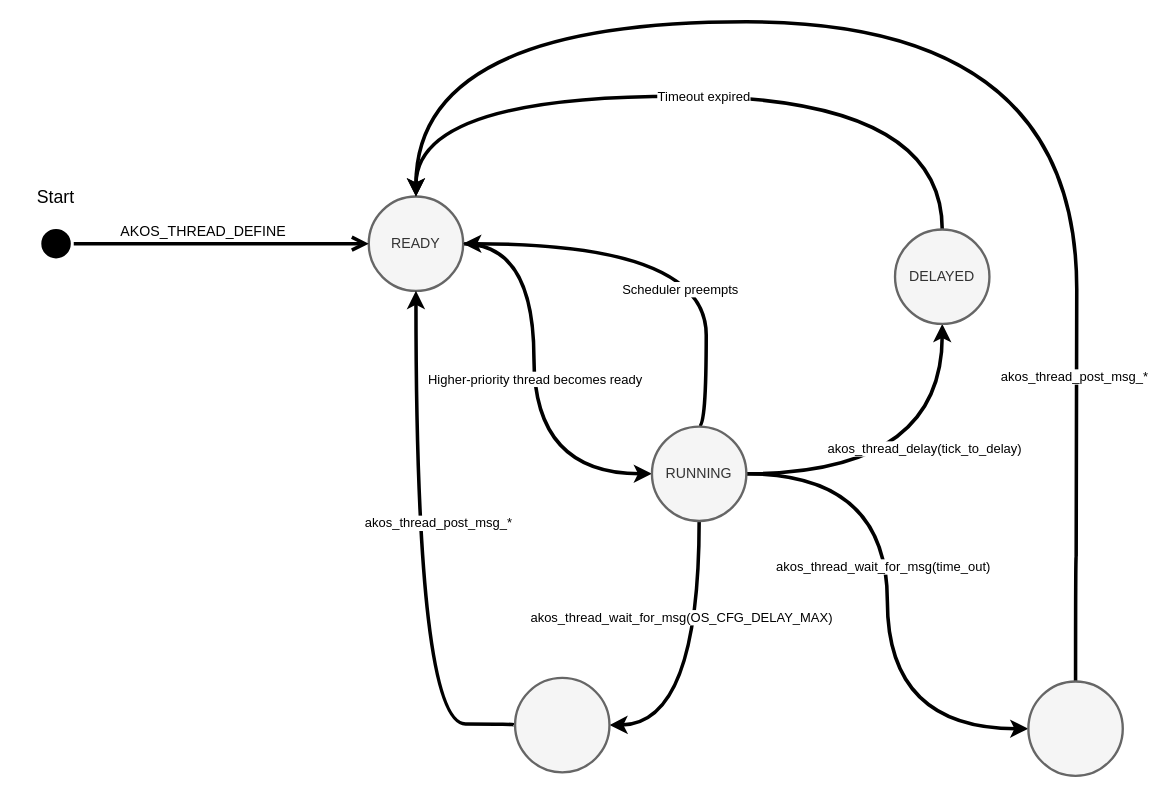
The diagram is 1167 pixels wide and 798 high, and some of its shapes have lost their labels. The centre of each missing label's shape, as x and y in pixels:
DELAYED ON MSG: [1075,728]
SUSPENDED ON MSG: [561,724]
